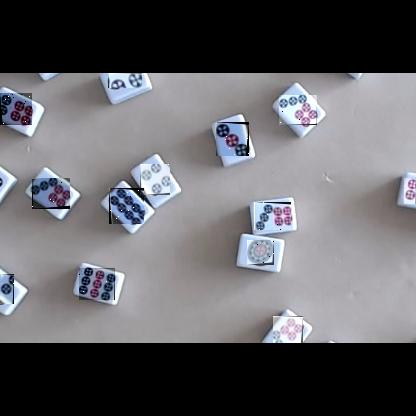1p: (247, 240, 274, 265)
2p: (108, 73, 142, 88)
3p: (216, 122, 249, 156)
4p: (140, 164, 170, 195), (0, 274, 14, 304)
6p: (0, 93, 32, 125), (404, 178, 416, 204)
7p: (32, 178, 70, 209), (279, 95, 317, 125), (254, 202, 291, 230), (273, 316, 303, 343)
8p: (109, 188, 144, 224)
9p: (79, 268, 115, 300)
